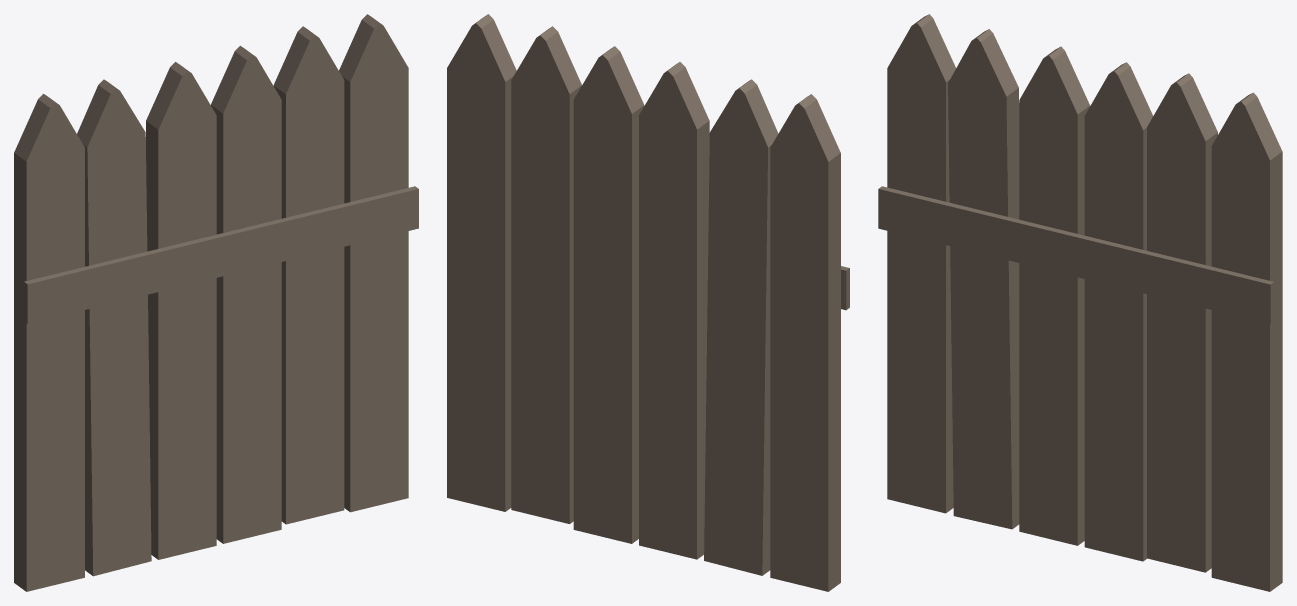
The model's file is Fence.fbx.
3 renders of one model, left to right at view 1: azimuth 30°, elevation 25°; view 2: azimuth 150°, elevation 25°; view 3: azimuth 330°, elevation 25°, orthographic.
Parts seen in each view (by area): view 1: Plane.004, Plane, Plane.003, Plane.002, Plane.005, Plane.001, Plane.006; view 2: Plane.004, Plane, Plane.003, Plane.002, Plane.001, Plane.005; view 3: Plane.002, Plane.001, Plane, Plane.005, Plane.004, Plane.003, Plane.006.
Boxes of the visible parts, x1=… form: Plane.004: x1=14, y1=93, x2=84, y2=591; Plane: x1=146, y1=62, x2=216, y2=559; Plane.003: x1=211, y1=45, x2=281, y2=543; Plane.002: x1=339, y1=14, x2=408, y2=512; Plane.005: x1=273, y1=26, x2=344, y2=524; Plane.001: x1=77, y1=79, x2=151, y2=576; Plane.006: x1=24, y1=186, x2=418, y2=323; Plane.004: x1=770, y1=94, x2=840, y2=591; Plane: x1=639, y1=62, x2=709, y2=559; Plane.003: x1=573, y1=46, x2=644, y2=543; Plane.002: x1=447, y1=14, x2=516, y2=511; Plane.001: x1=704, y1=79, x2=778, y2=575; Plane.005: x1=511, y1=26, x2=581, y2=523; Plane.002: x1=1211, y1=92, x2=1282, y2=591; Plane.001: x1=948, y1=29, x2=1019, y2=529; Plane: x1=1019, y1=46, x2=1090, y2=545; Plane.005: x1=1147, y1=73, x2=1217, y2=572; Plane.004: x1=887, y1=14, x2=956, y2=513; Plane.003: x1=1084, y1=62, x2=1153, y2=561; Plane.006: x1=878, y1=186, x2=1274, y2=324.
Bounding box in the file's own units: 178 × 212 × 13.8.
1 material, 1 textured.
